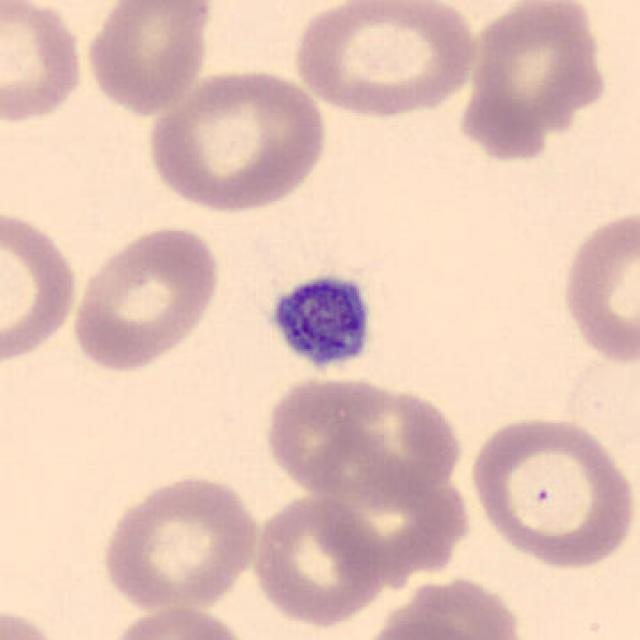Platelets: (263, 268, 379, 379)
RBC: (142, 64, 332, 215), (258, 370, 468, 504), (464, 411, 636, 571), (455, 0, 615, 167), (298, 431, 470, 584), (96, 471, 265, 614), (68, 220, 224, 374), (288, 0, 482, 120), (249, 492, 389, 629), (80, 0, 217, 118), (556, 204, 640, 368), (0, 201, 82, 367), (0, 0, 89, 129), (105, 603, 252, 640), (356, 617, 492, 640), (0, 603, 71, 640)
